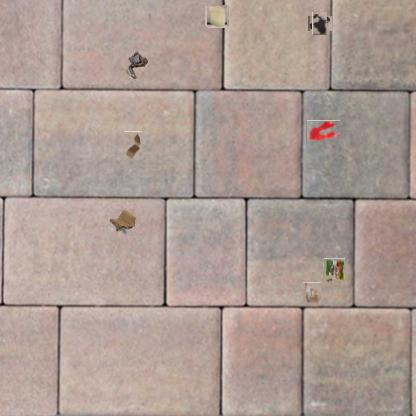dirty: (108, 207, 138, 237), (124, 50, 148, 80), (323, 258, 345, 283), (124, 131, 142, 160), (206, 5, 228, 27), (303, 282, 321, 305)
liquid: (306, 120, 340, 141), (310, 14, 330, 33)
